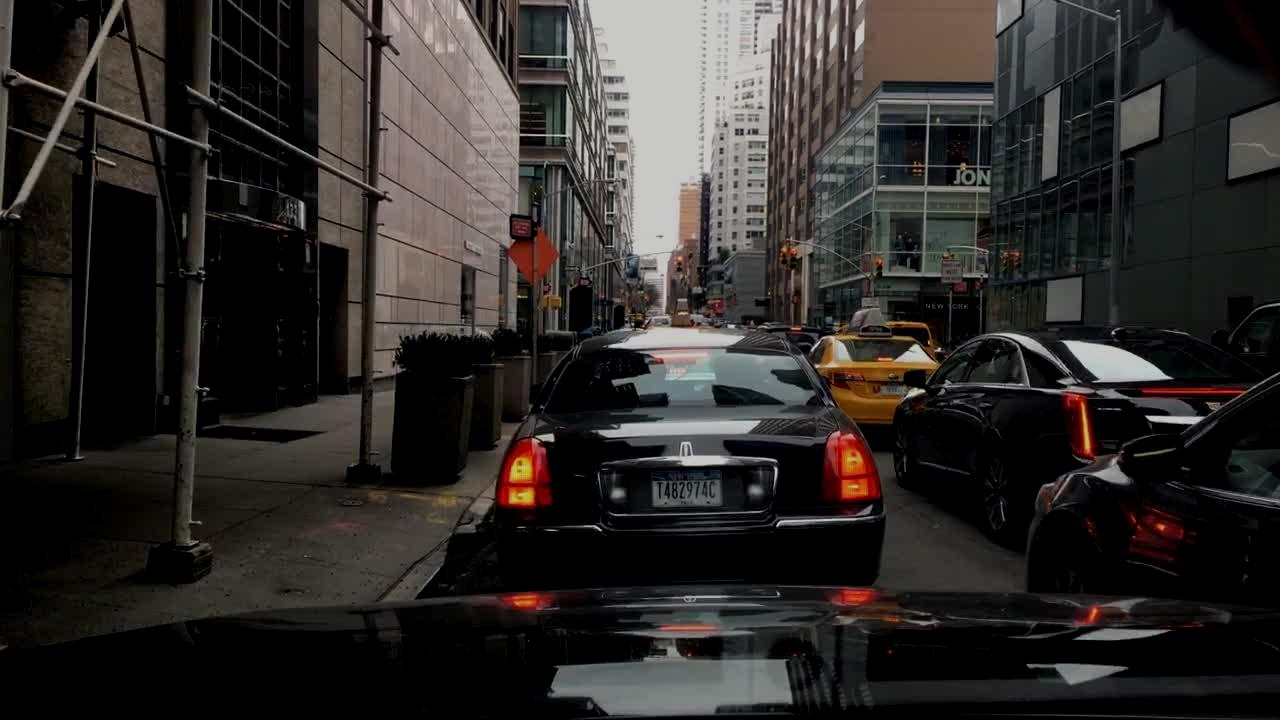lincoln: (678, 438, 697, 468)
